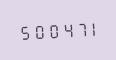five: (17, 22, 29, 41)
four: (57, 20, 69, 39)
one: (83, 18, 95, 38)
seven: (70, 19, 82, 38)
zero: (44, 20, 56, 40), (30, 21, 42, 40)
